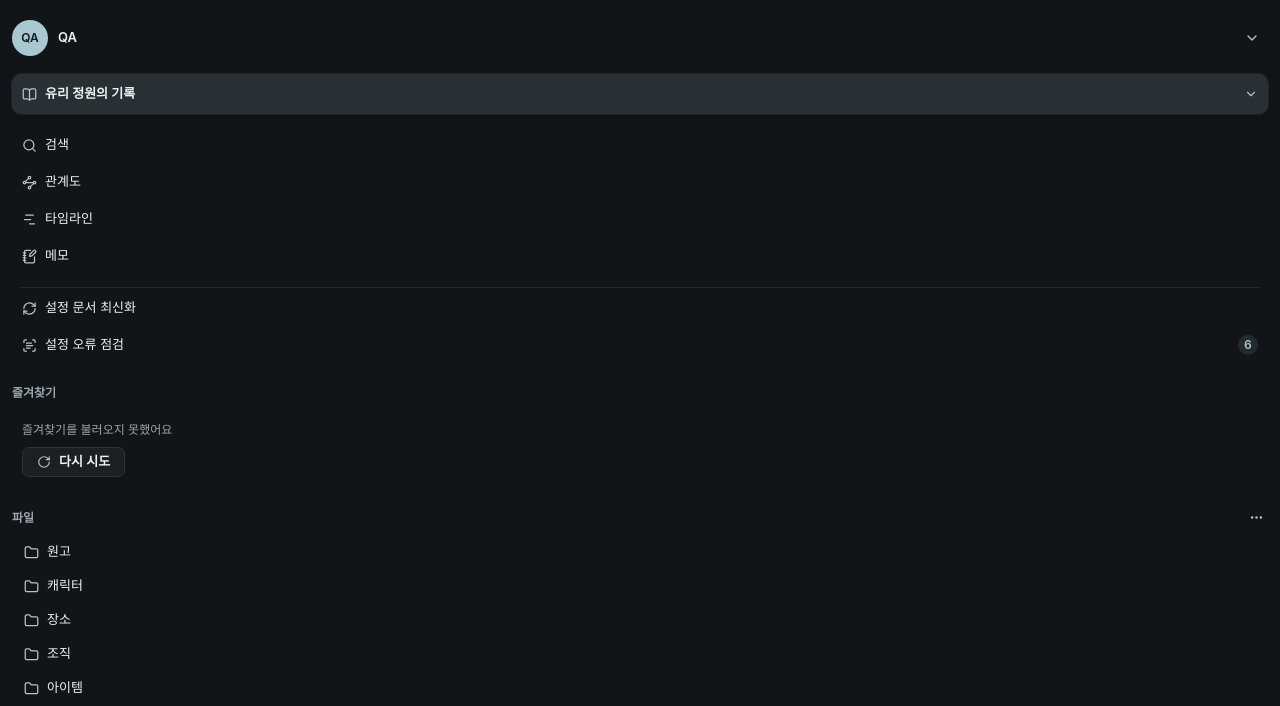
Test case: shows a favorites failure and recovers the original favorites on retry
The image size is (1280, 706).
Expected: the message shows "즐겨찾기를 불러오지 못했어요", [22, 422, 172, 437]
Click the button "다시 시도" at point(74, 462), box [22, 447, 125, 477]
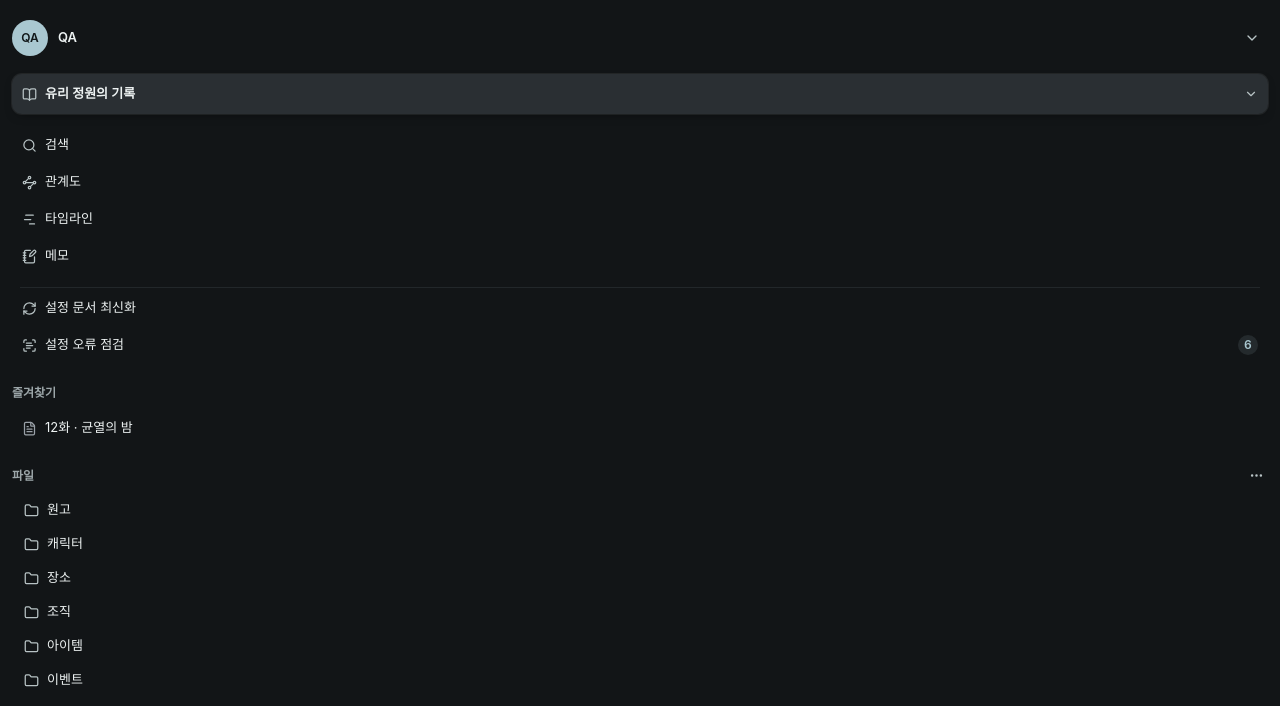
Expected: the button "12화 · 균열의 밤" is shown, [12, 411, 1268, 445]
